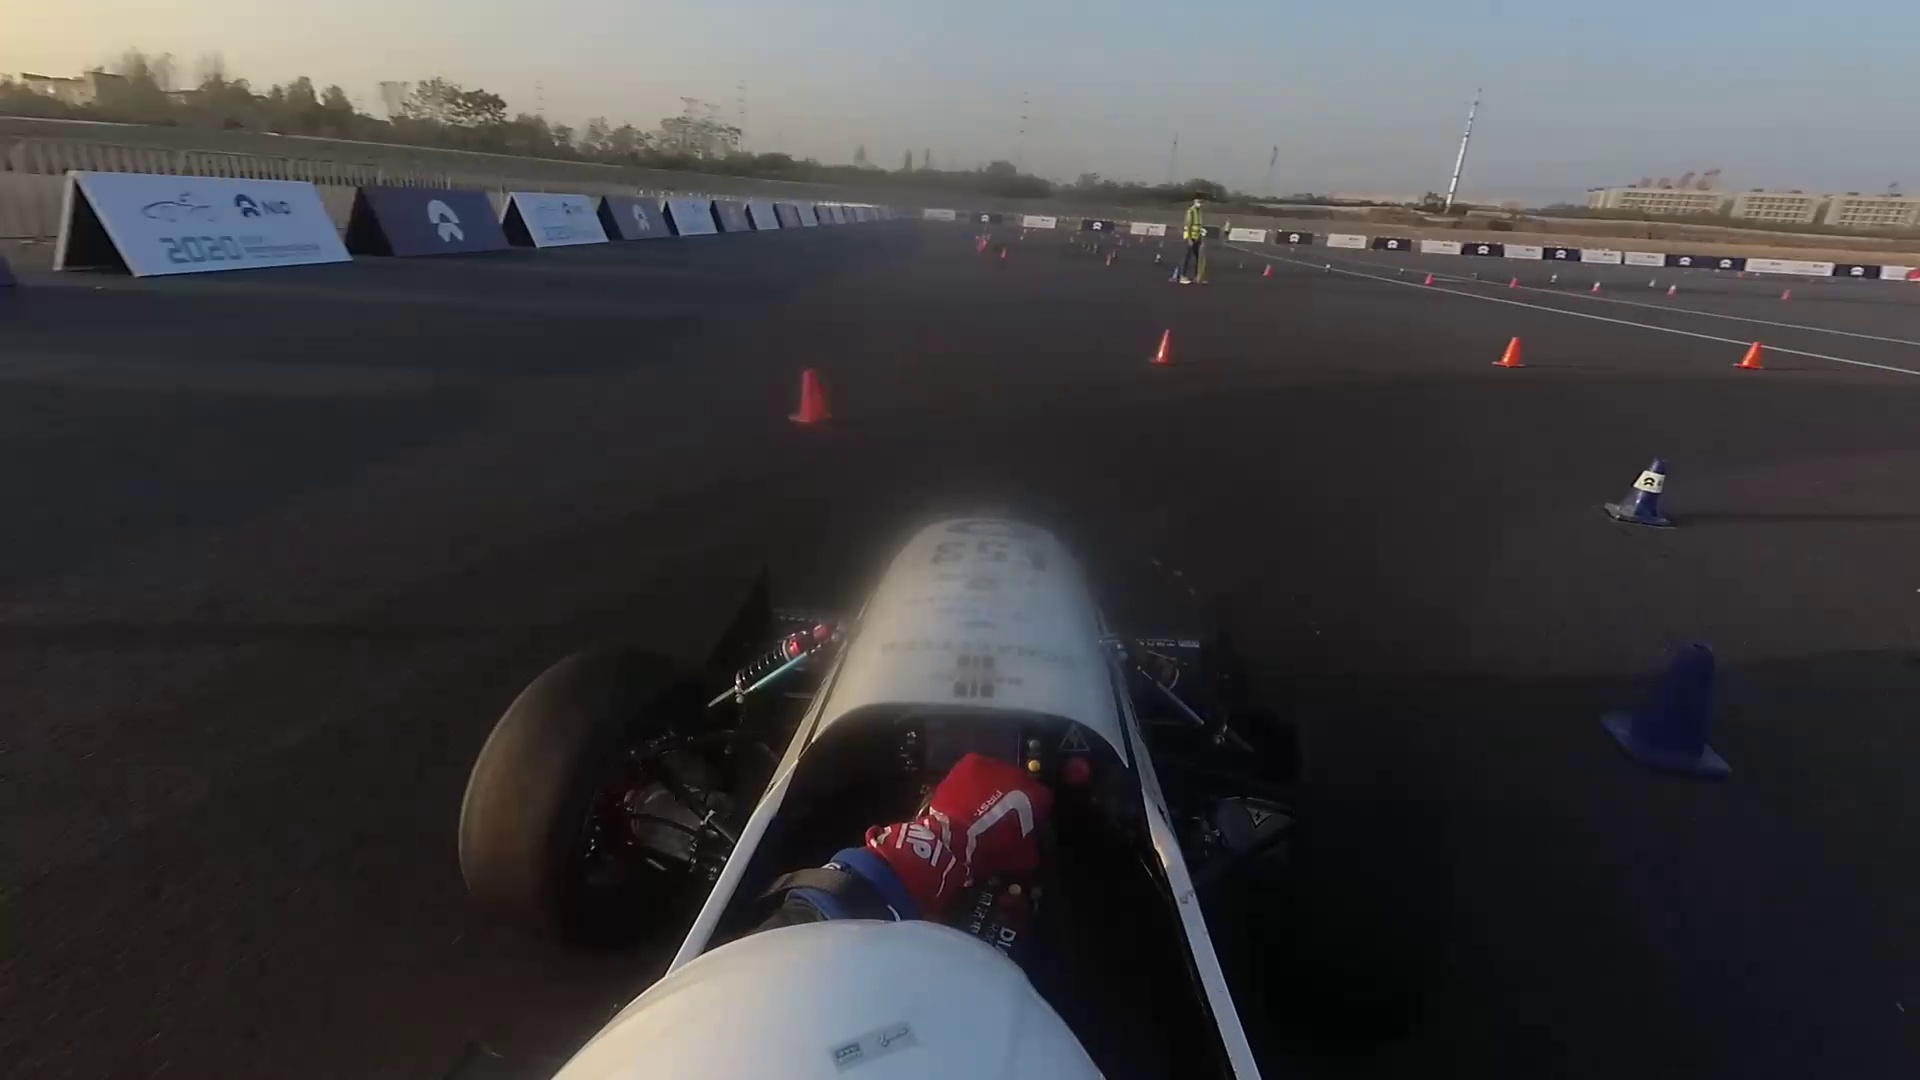blue_cone: (1619, 636, 1721, 760), (1602, 465, 1673, 524), (1549, 273, 1557, 284), (1648, 278, 1656, 287), (1325, 261, 1331, 273)
red_cone: (782, 367, 833, 425), (1494, 332, 1527, 371), (1147, 327, 1178, 368), (1737, 338, 1768, 373), (1507, 277, 1520, 289), (1589, 280, 1600, 293), (1265, 264, 1275, 277), (1425, 274, 1435, 287), (1782, 287, 1789, 301), (1668, 285, 1677, 295)
